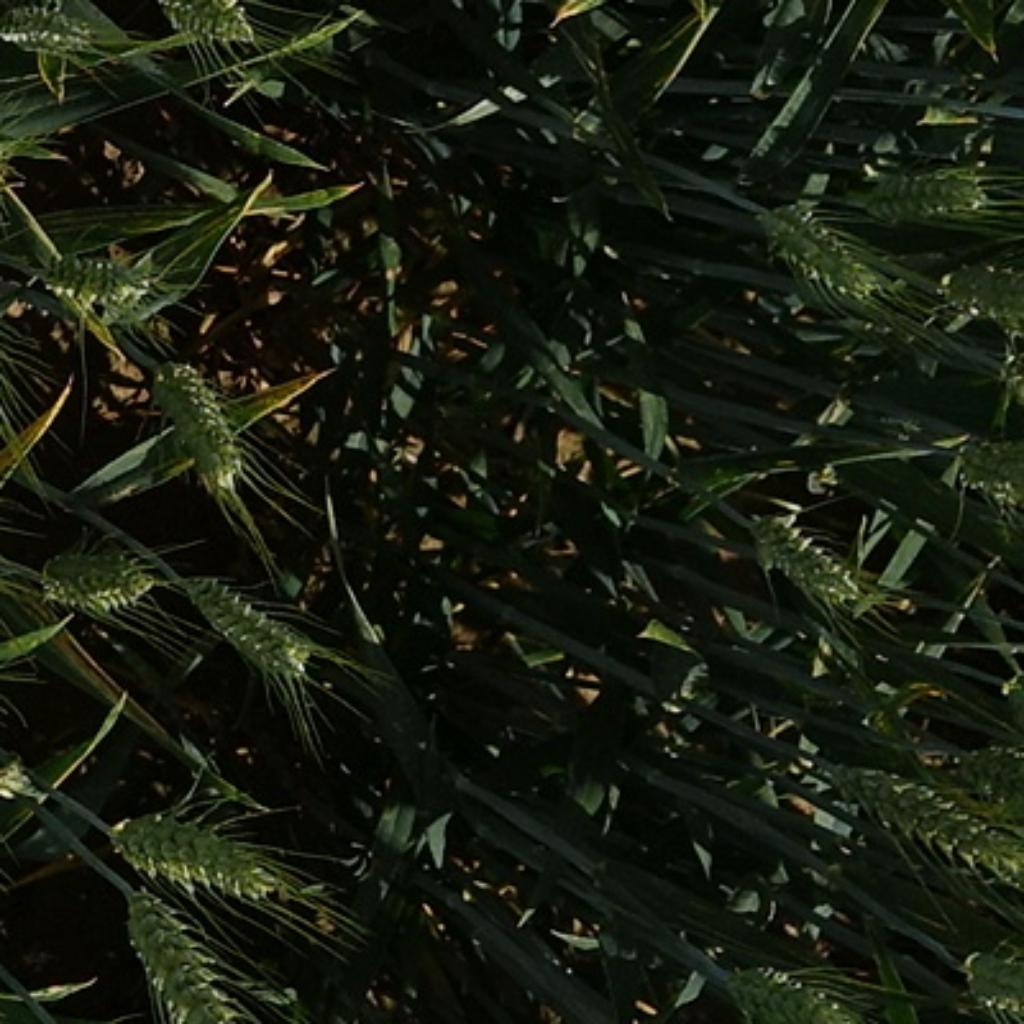0-0: (806, 753, 1024, 882), (99, 802, 304, 916), (171, 555, 320, 688), (744, 511, 892, 631), (122, 883, 245, 1024), (145, 353, 255, 502), (751, 201, 886, 319), (28, 232, 171, 330), (855, 156, 1013, 228), (28, 532, 161, 616), (731, 951, 874, 1024), (926, 258, 1024, 347), (951, 441, 1024, 545), (945, 928, 1022, 1024), (0, 0, 112, 58), (148, 0, 261, 51)
